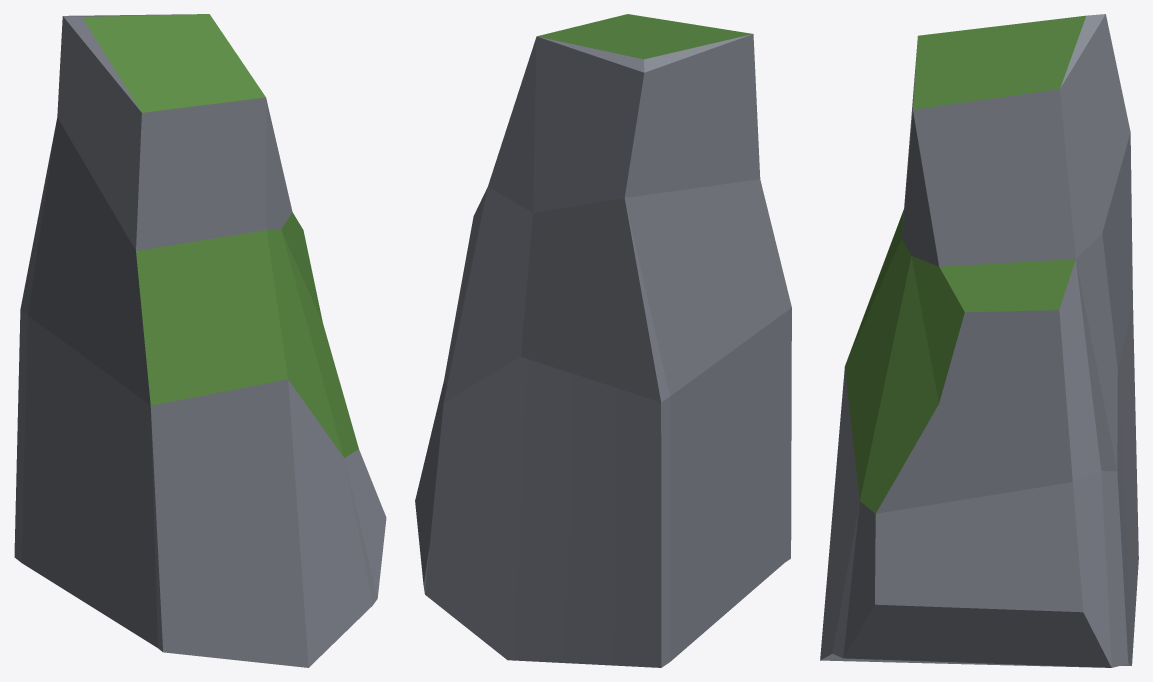
The model's file is Rock_Moss_1.glb.
3 views of the same model, side by side, from view 1: azimuth 30°, elevation 25°; view 2: azimuth 150°, elevation 25°; view 3: azimuth 270°, elevation 25° (orthographic). The views are drawn at different scales.
Visible parts, largest first — view 1: Rock_Moss_1; view 2: Rock_Moss_1; view 3: Rock_Moss_1.
Boxes of the visible parts, x1,y1,x2,y2 form: Rock_Moss_1: [14, 14, 386, 667]; Rock_Moss_1: [415, 14, 791, 667]; Rock_Moss_1: [820, 14, 1138, 667].
Size of the model in its own units: 0.4362 by 0.9253 by 0.4481.
